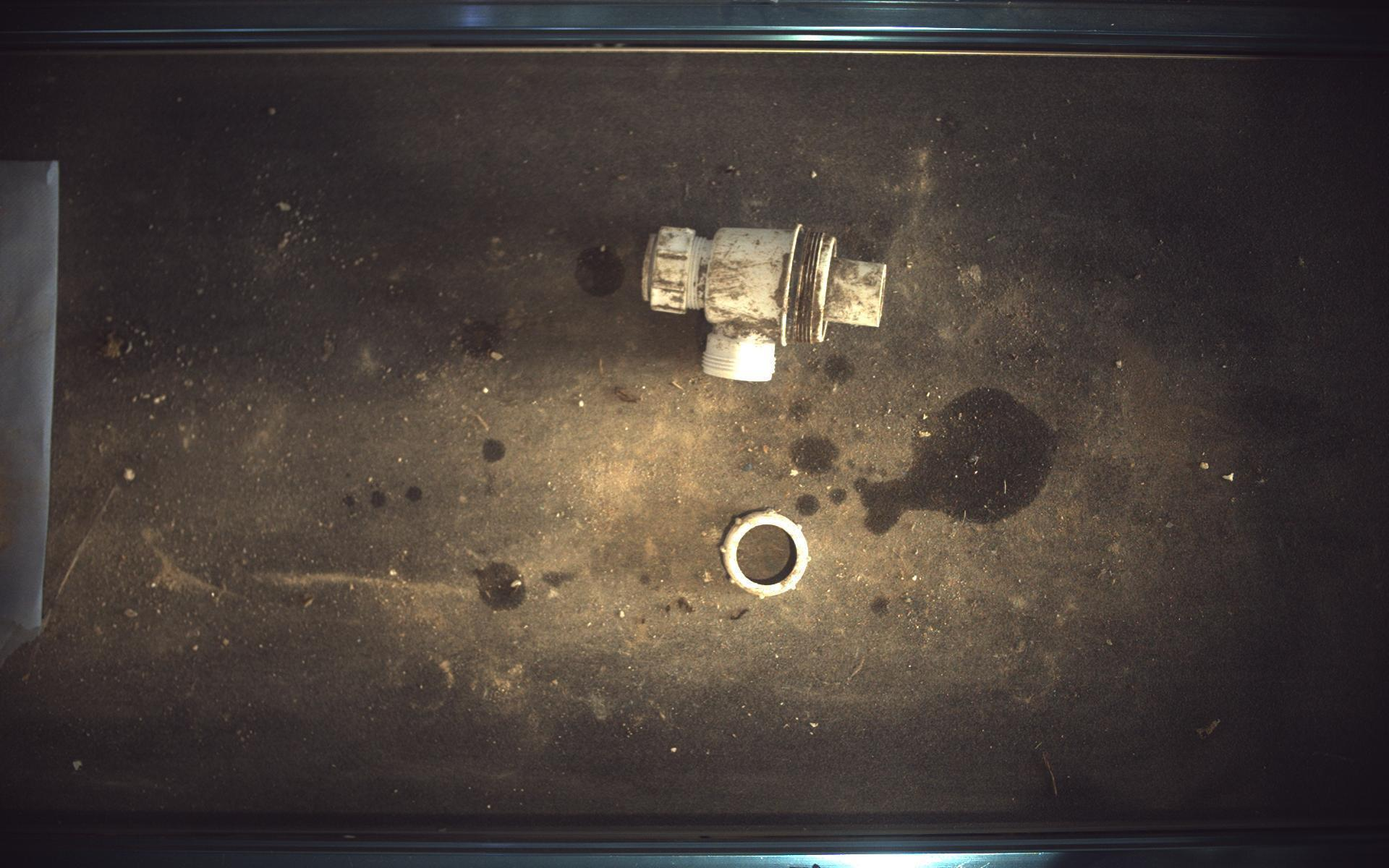plastic: (642, 224, 888, 381)
